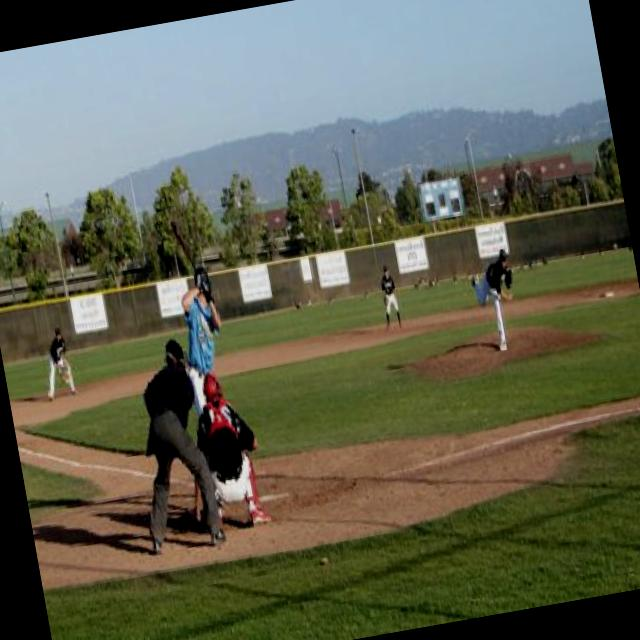Person: (114, 329, 228, 556), (169, 364, 271, 535), (170, 266, 236, 417), (466, 246, 526, 356), (371, 257, 408, 350), (38, 324, 78, 402)
